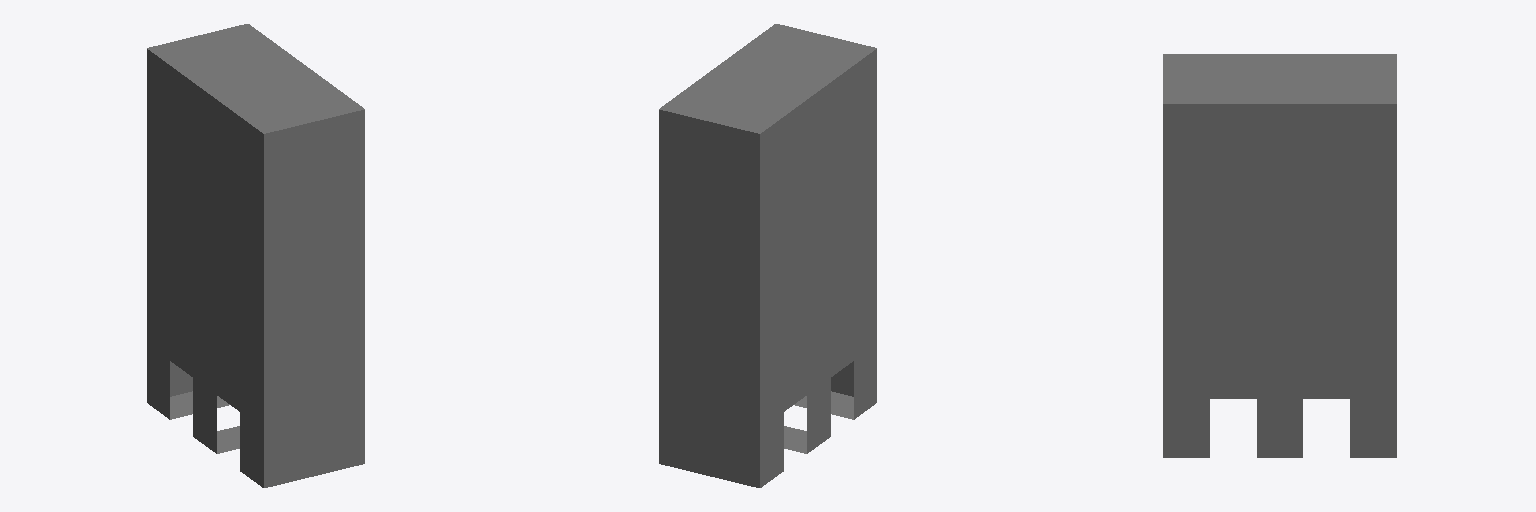
File: foot.obj
The picture shows the model from 3 angles: view 1: azimuth 30°, elevation 25°; view 2: azimuth 150°, elevation 25°; view 3: azimuth 270°, elevation 25°; orthographic projection.
Parts seen in each view (by area): view 1: Box001; view 2: Box001; view 3: Box001.
Part boxes in pixels (bbox=[...]): Box001: bbox=[147, 24, 364, 487]; Box001: bbox=[659, 24, 876, 487]; Box001: bbox=[1163, 54, 1396, 457].
Size of the model in its own units: 0.3 by 1 by 0.6.